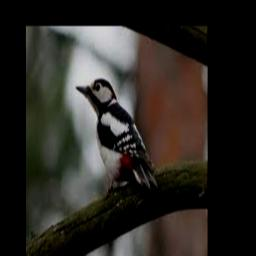Woodpecker: (75, 79, 158, 198)
